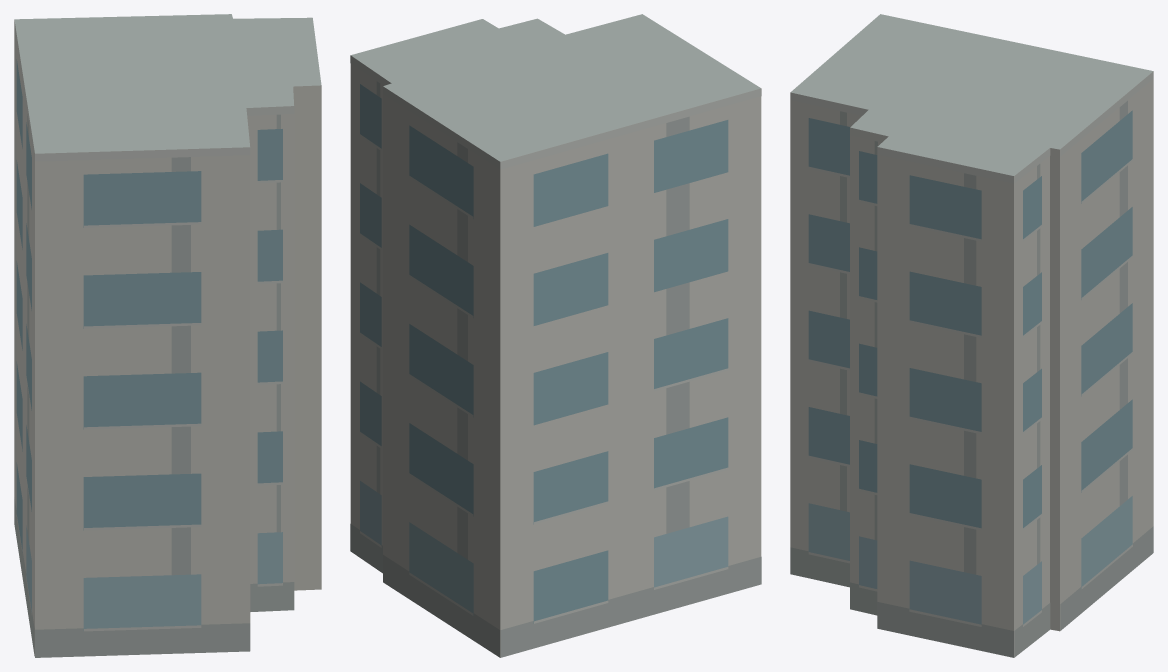
The model's file is survey-upis-33031715.glb.
3 renders of one model, left to right at view 1: azimuth 30°, elevation 25°; view 2: azimuth 150°, elevation 25°; view 3: azimuth 270°, elevation 25°, orthographic. The views are drawn at different scales.
Parts seen in each view (by area): view 1: survey-upis-33031715.tmp; view 2: survey-upis-33031715.tmp; view 3: survey-upis-33031715.tmp.
Part boxes in pixels (box(x1,y1,x2,y2)): survey-upis-33031715.tmp: box(14, 14, 321, 657); survey-upis-33031715.tmp: box(350, 14, 761, 657); survey-upis-33031715.tmp: box(790, 14, 1153, 657).
Size of the model in its own units: 11.02 by 15.25 by 10.43.
